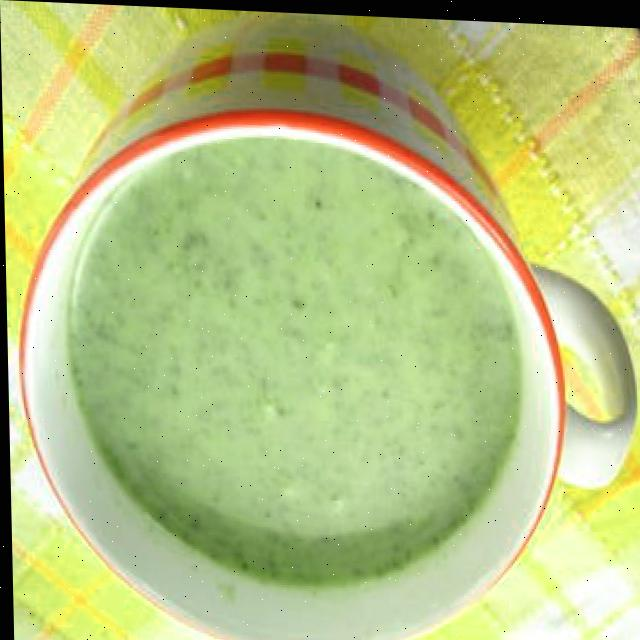汤锅炖物: (9, 0, 583, 640)
